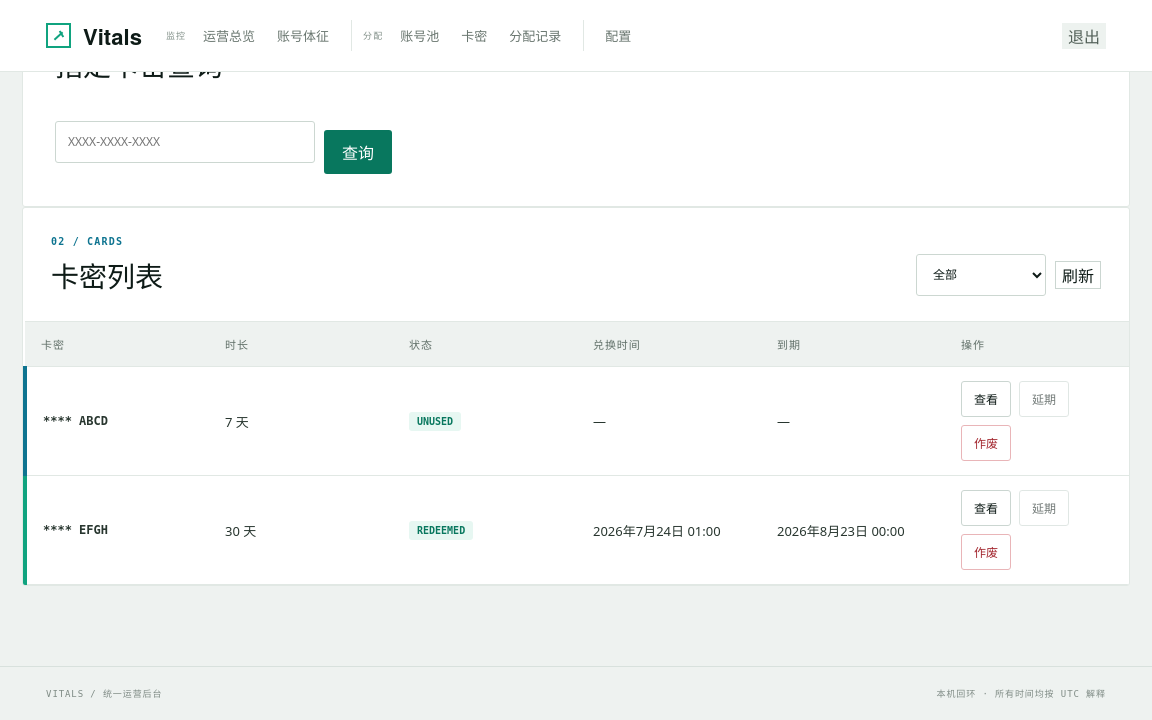
it: P2 admin views › shows legacy unavailable message when card plaintext cannot be restored
(page scrolled)
Click the button "查看" in the row of "**** ABCD". click: (986, 399)
box: [961,381,1011,417]
(page scrolled)
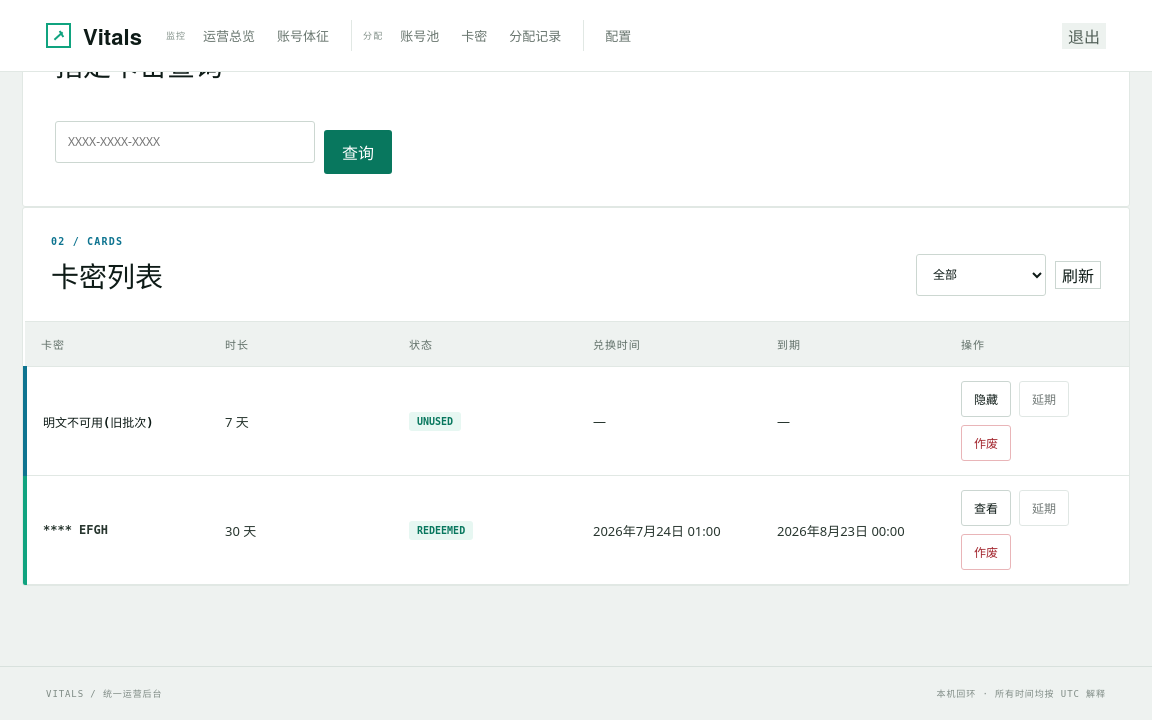
Now the text "明文不可用(旧批次)" is shown, box [43,416,154,430]
